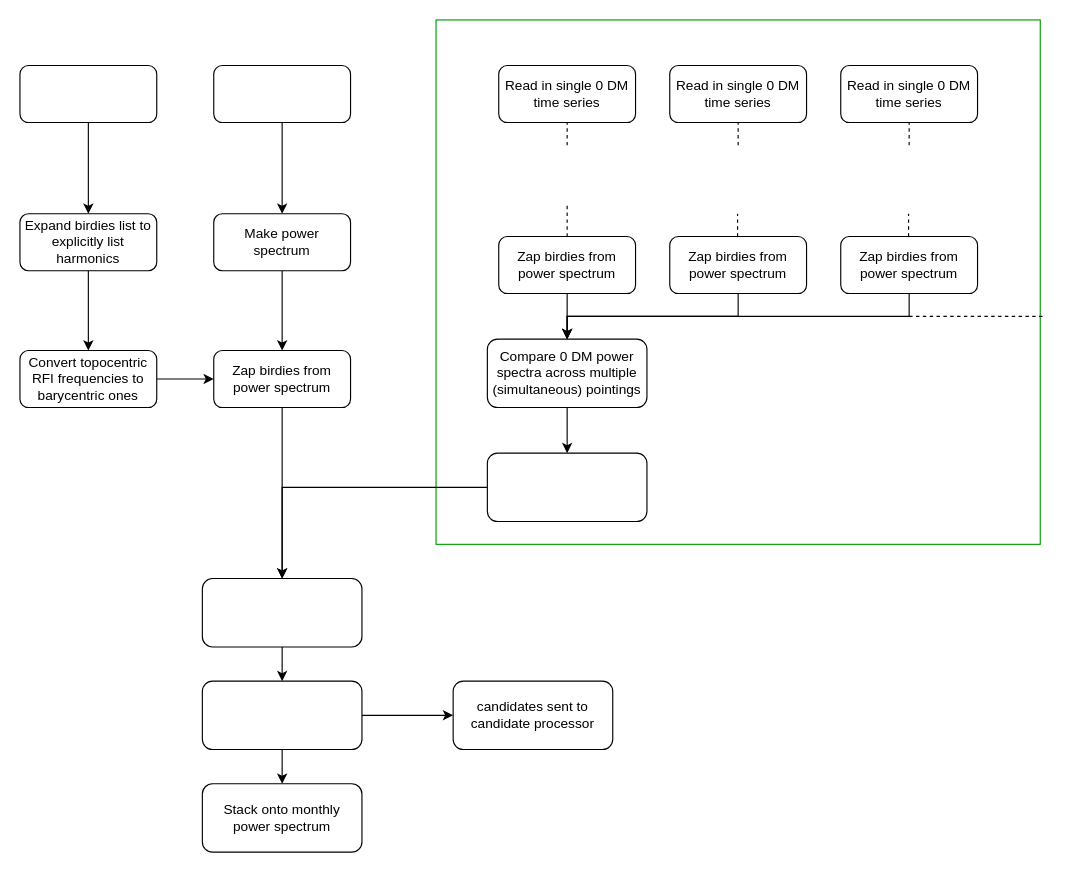
Some shapes in this 1067 by 872 pixel diagram are drawn without their labels. Each missing label, with the box of its shape:
Daily search: (201, 680, 362, 750)
Identify common signals: (486, 452, 647, 522)
Quality Control: (435, 19, 1040, 544)
read in birdies list: (19, 64, 157, 123)
Read in single dedispersed time series: (213, 64, 351, 123)
Zap common signals from power spectra: (201, 577, 362, 647)
